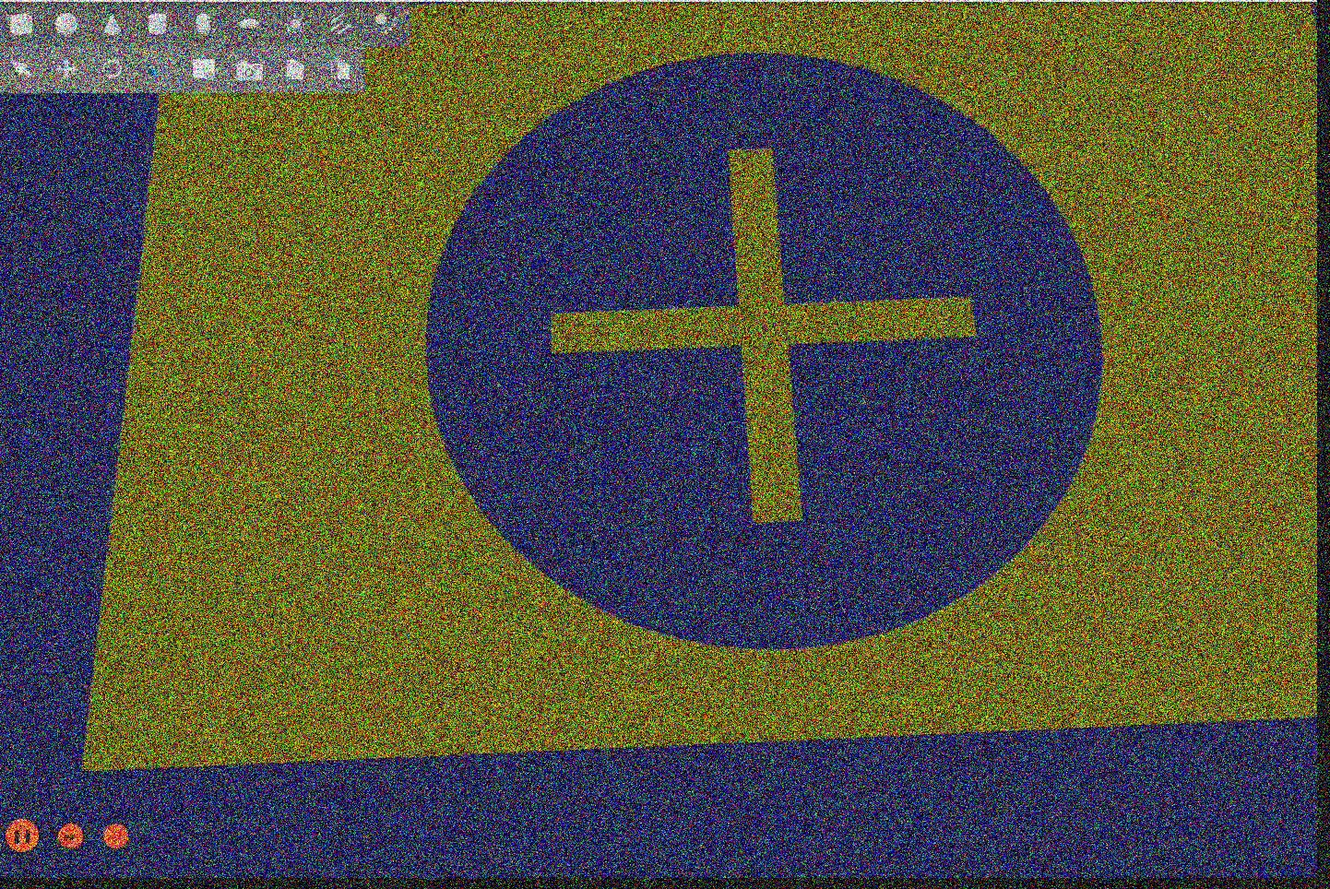large_base: (1, 1, 1322, 880)
